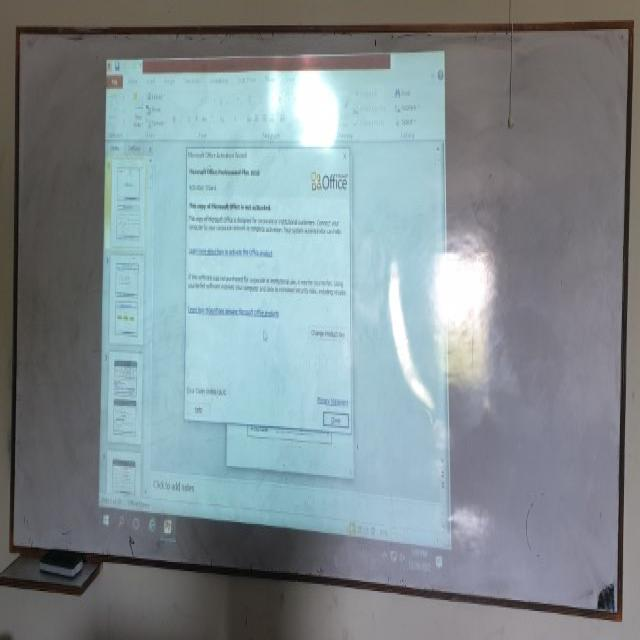Slide: (97, 51, 454, 579)
White-board: (13, 25, 631, 619)
